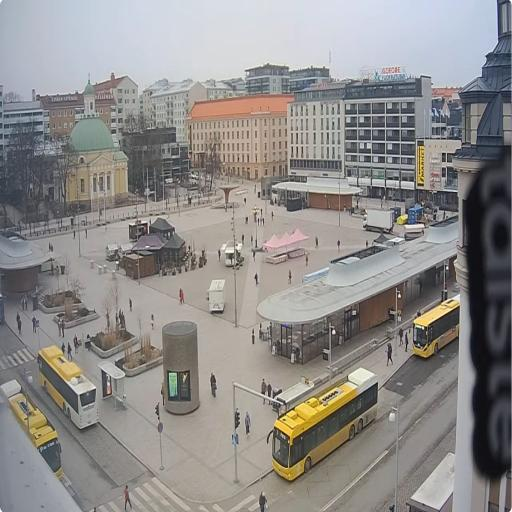bus: (265, 368, 382, 484), (1, 377, 63, 486), (35, 344, 101, 434), (410, 292, 460, 362)
delivery: (362, 207, 395, 234)
